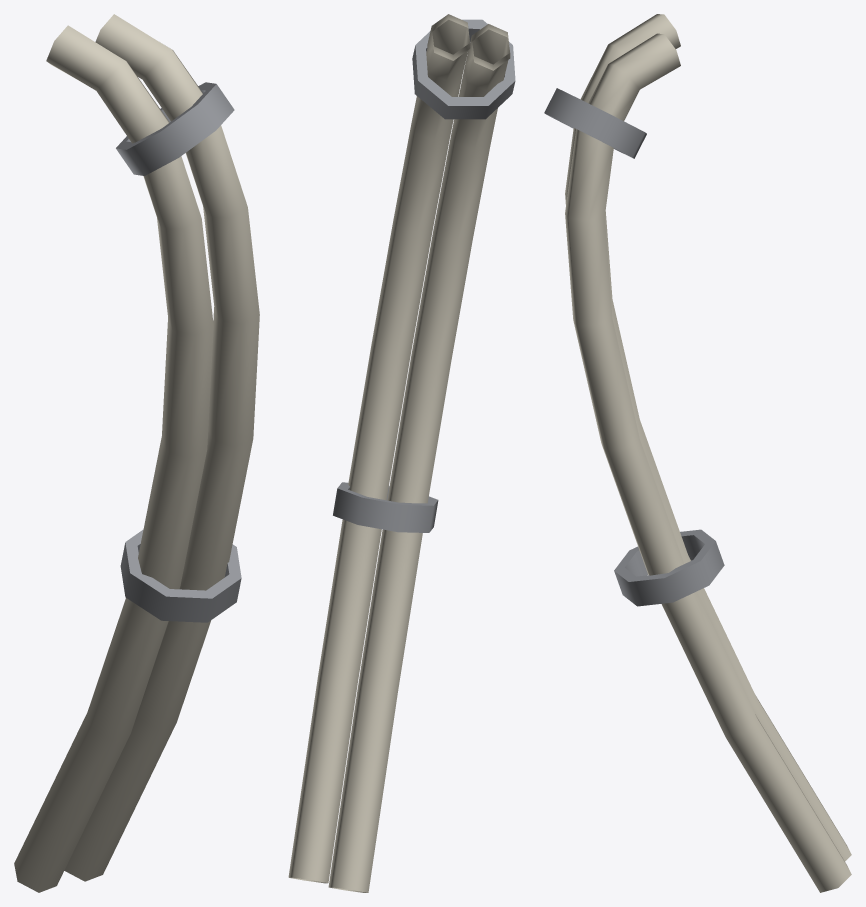
File: skid_harness.obj
3 views of the same model, side by side, from view 1: azimuth 30°, elevation 25°; view 2: azimuth 150°, elevation 25°; view 3: azimuth 270°, elevation 25° (orthographic). The views are drawn at different scales.
Visible parts, largest first — view 1: skid_harness; view 2: skid_harness; view 3: skid_harness.
Part boxes in pixels (x1,y1,x2,y2): skid_harness: (14,14,259,892); skid_harness: (288,14,515,892); skid_harness: (544,14,851,892).
Size of the model in its own units: 0.1378 by 0.6462 by 0.2183.
